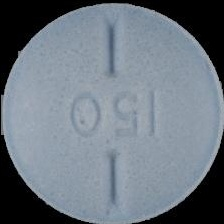67544-889: (0, 0, 224, 224)
